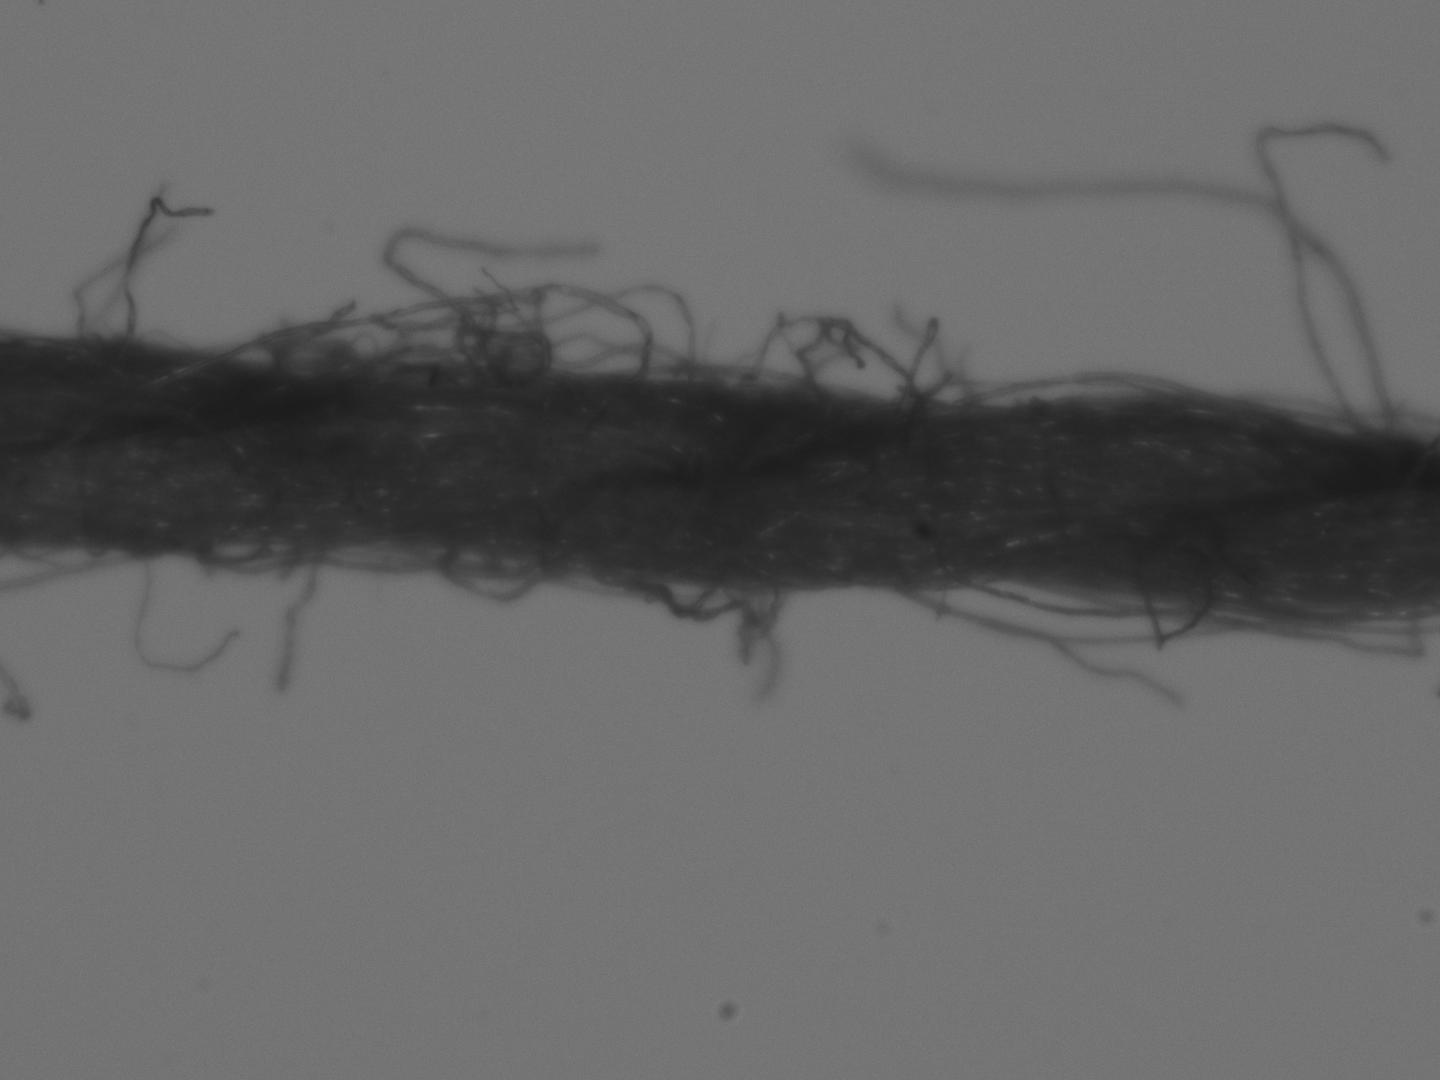loop_fiber: (158, 273, 702, 397), (882, 577, 1280, 649), (744, 306, 939, 417), (954, 364, 1261, 410)
protruding_fiber: (846, 137, 1412, 446), (1254, 120, 1384, 444), (108, 192, 228, 353), (129, 547, 239, 674), (268, 543, 325, 700)
